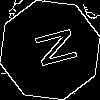N: (25, 25, 78, 72)
